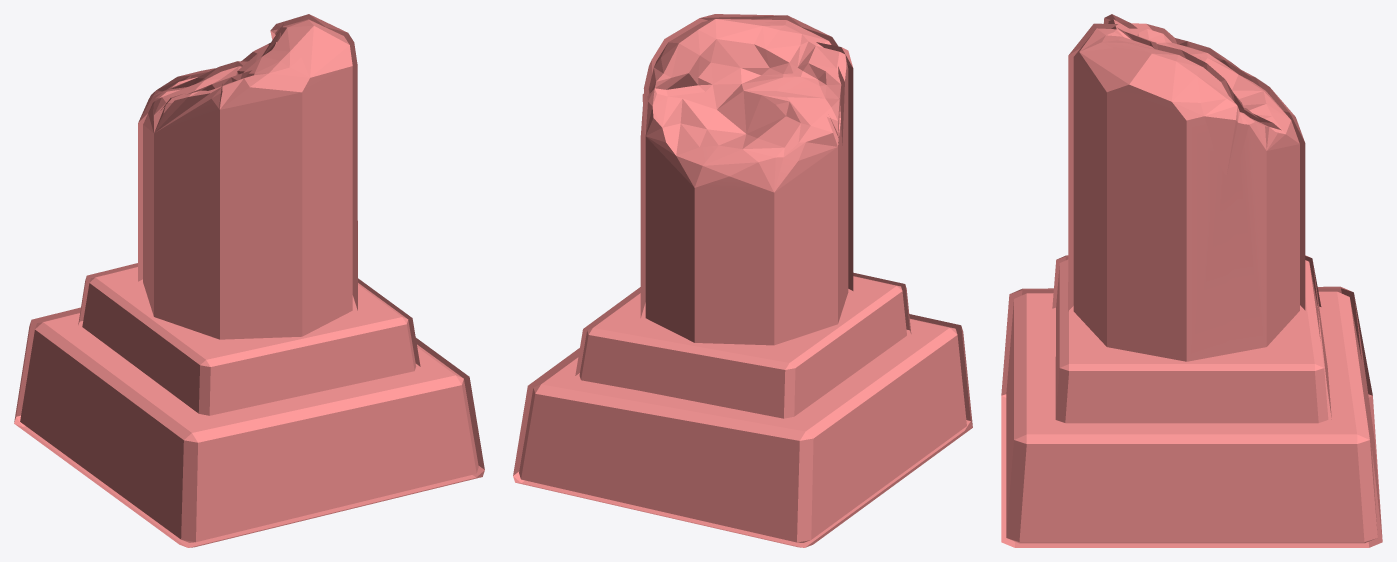
Rendered from entity440840.gltf.
3 renders of one model, left to right at view 1: azimuth 30°, elevation 25°; view 2: azimuth 150°, elevation 25°; view 3: azimuth 270°, elevation 25°, orthographic. The views are drawn at different scales.
Visible parts, largest first — view 1: node_mesh_ruins_03; view 2: node_mesh_ruins_03; view 3: node_mesh_ruins_03.
Boxes of the visible parts, x1,y1,x2,y2 form: node_mesh_ruins_03: (14, 14, 484, 547); node_mesh_ruins_03: (513, 14, 972, 547); node_mesh_ruins_03: (1001, 14, 1382, 547).
Bounding box in the file's own units: 1.79 × 2.42 × 1.86.
